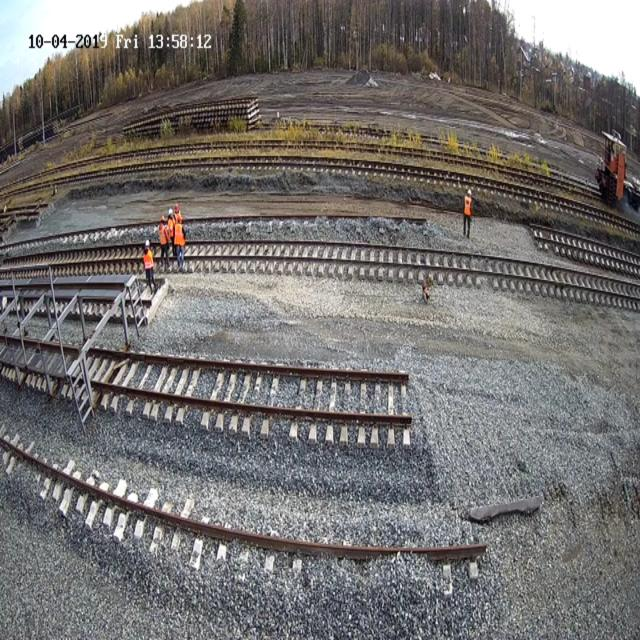Helmet: (144, 239, 150, 246), (168, 208, 173, 216), (467, 189, 472, 196), (161, 215, 165, 221)
Person: (156, 200, 194, 254), (143, 238, 156, 295), (463, 188, 473, 239)
